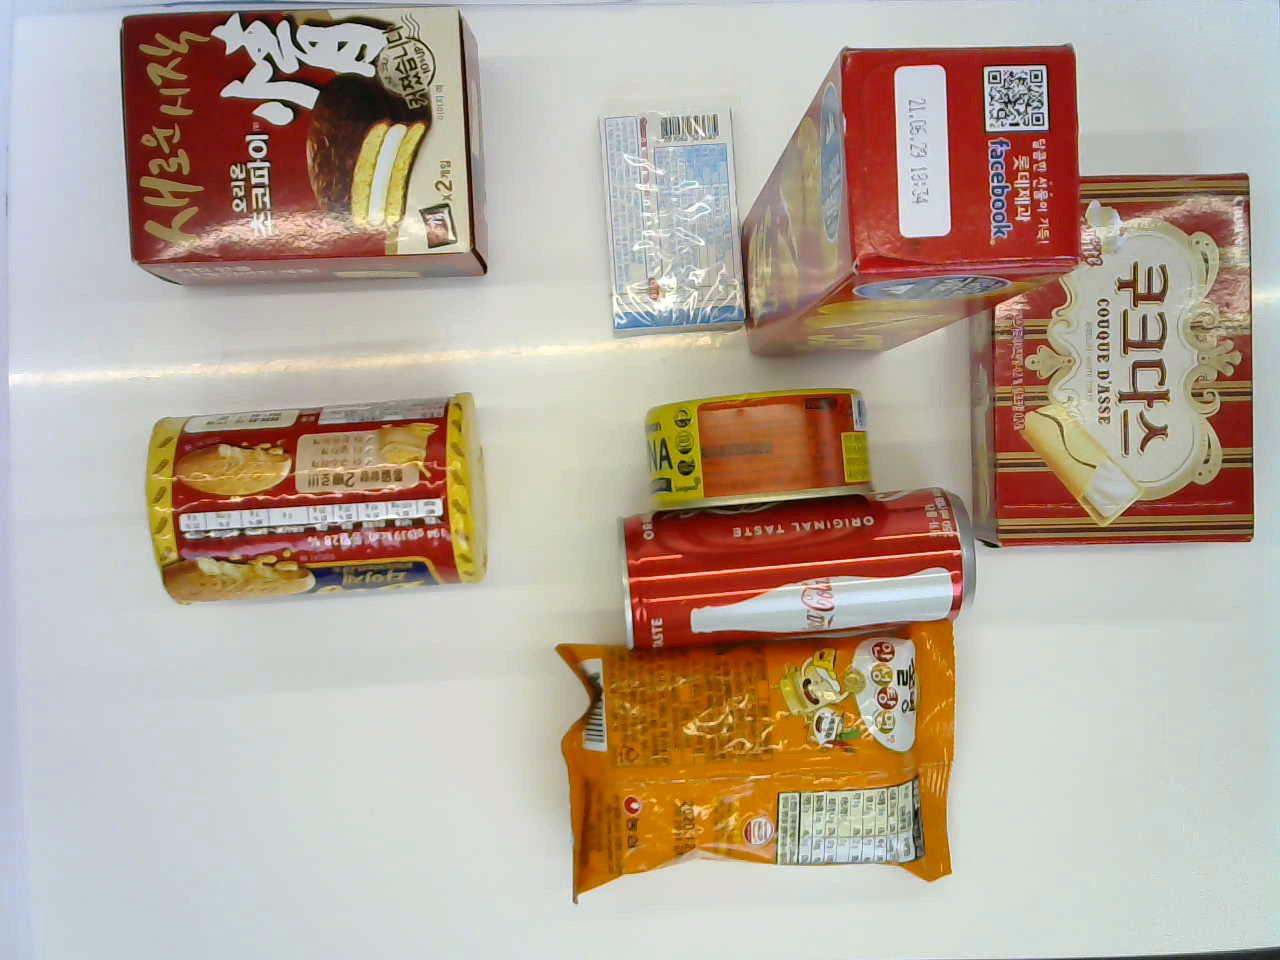ID_gum: (579, 91, 753, 342)
chocopie: (110, 2, 479, 305)
coke: (608, 487, 961, 664)
couque_white: (984, 155, 1267, 569)
diget_ori: (162, 396, 492, 604)
jjolbyung_noodle: (554, 616, 975, 896)
tuna: (632, 377, 883, 494)
zec: (737, 44, 1098, 368)
